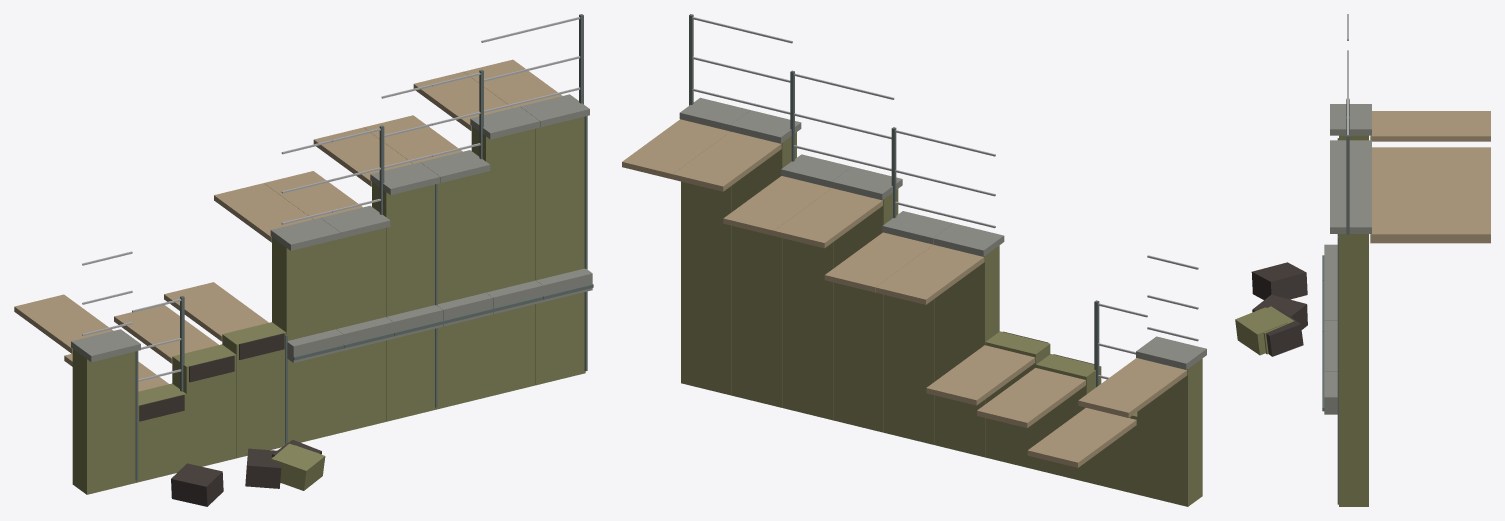
Rendered from SM_MuroRampa_v4_Escalonado_e2_MuyDanado_LOD0.fbx.
3 renders of one model, left to right at view 1: azimuth 30°, elevation 25°; view 2: azimuth 150°, elevation 25°; view 3: azimuth 270°, elevation 25°, orthographic. The views are drawn at different scales.
Parts seen in each view (by area): view 1: SM_muro_rampa_v18_LOD0; view 2: SM_muro_rampa_v18_LOD0; view 3: SM_muro_rampa_v18_LOD0.
Boxes of the visible parts, x1=… form: SM_muro_rampa_v18_LOD0: x1=14, y1=14, x2=593, y2=506; SM_muro_rampa_v18_LOD0: x1=622, y1=14, x2=1206, y2=506; SM_muro_rampa_v18_LOD0: x1=1235, y1=14, x2=1490, y2=506.
Size of the model in its own units: 10.03 by 6.84 by 4.24.
